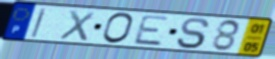8: (210, 19, 242, 53)
E: (131, 14, 172, 47)
I: (29, 7, 49, 39)
O: (100, 11, 135, 45)
S: (174, 16, 212, 50)
X: (57, 9, 97, 43)
